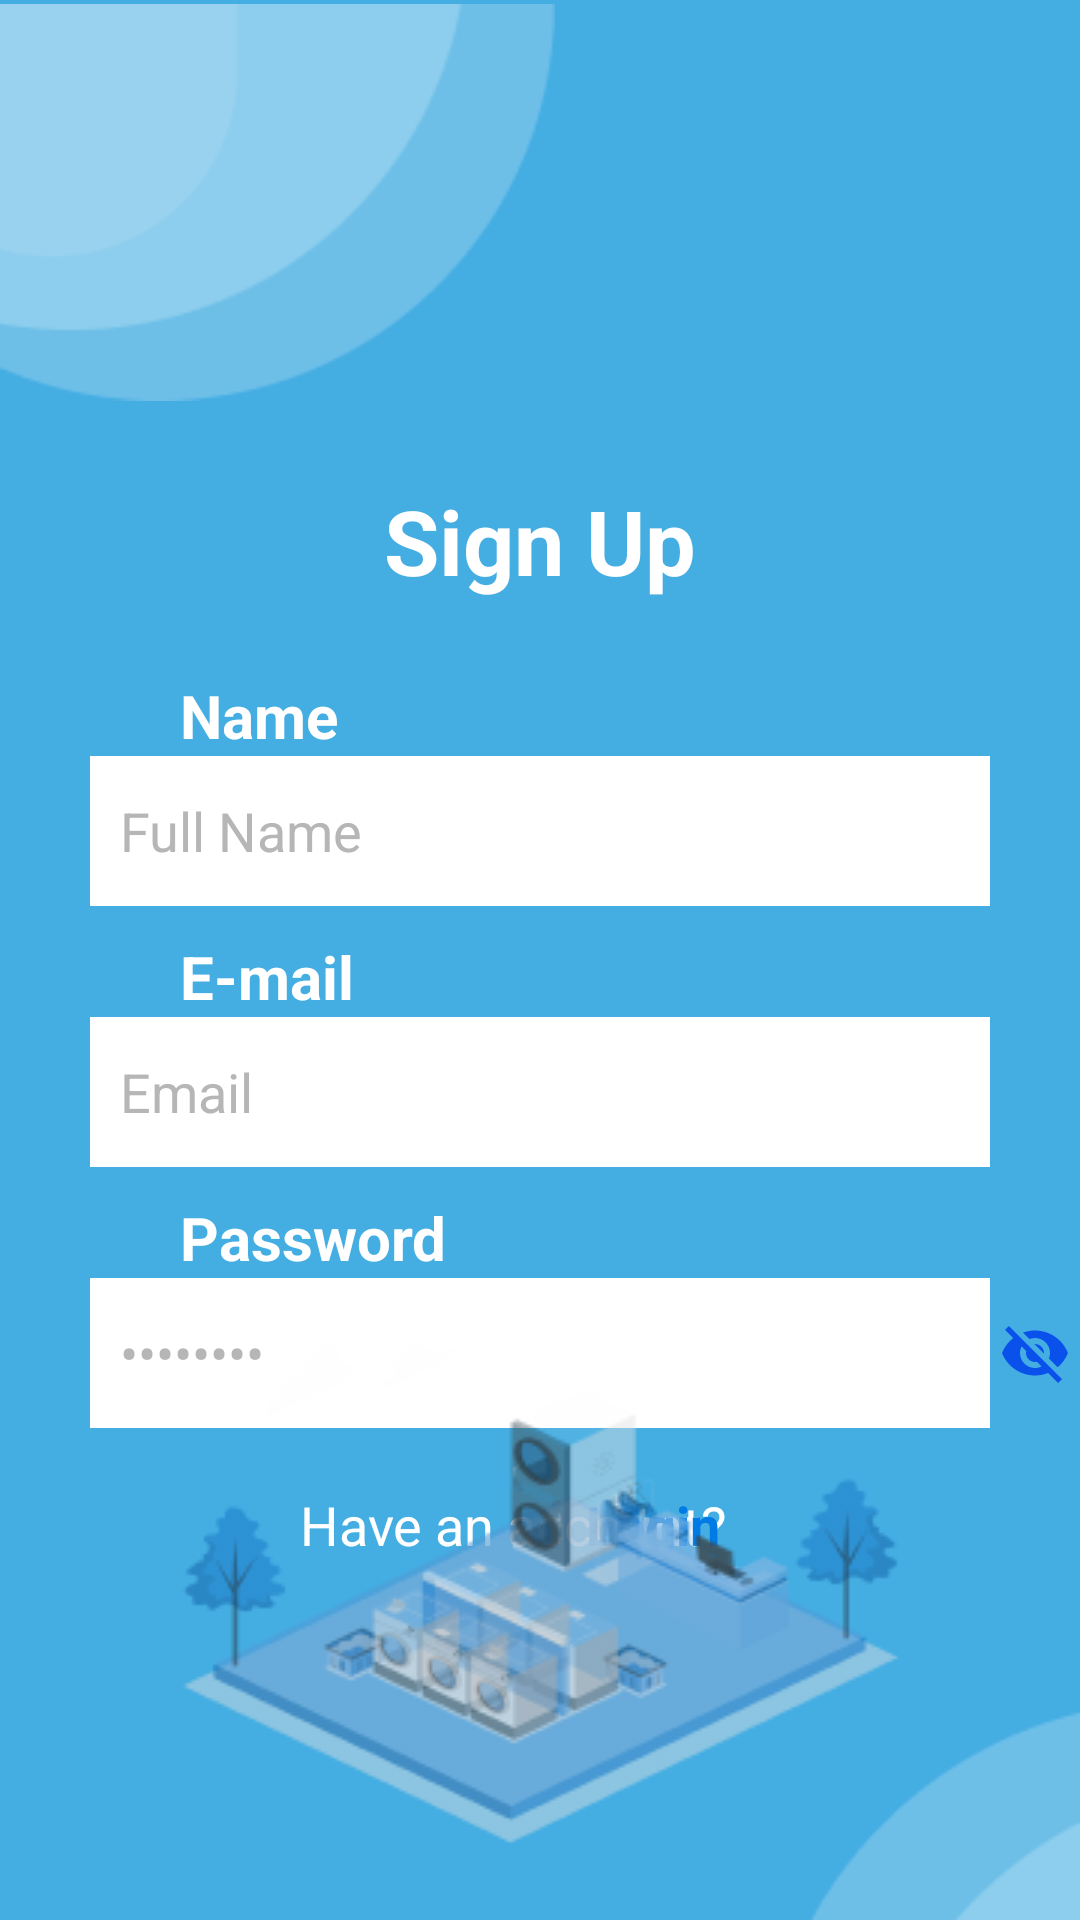

Where to tap for icons on this 1080px×1920px app screen, as (x,y):
visibility off: (1035,1354)
